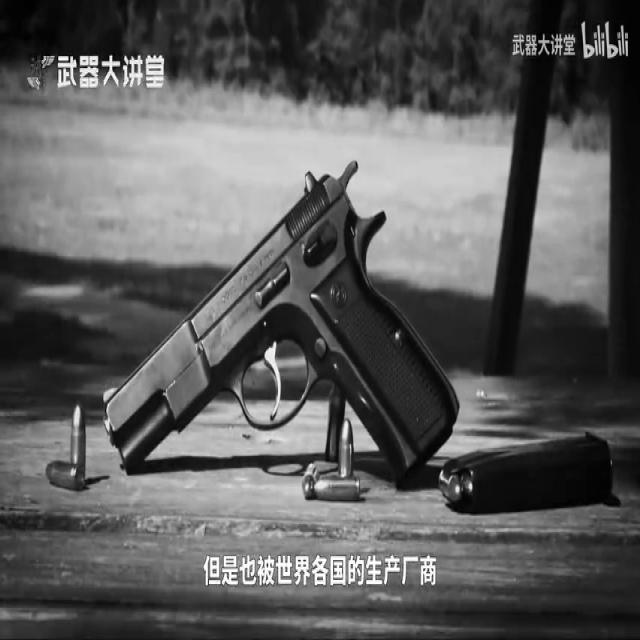Hand-Gun: (96, 152, 465, 486)
